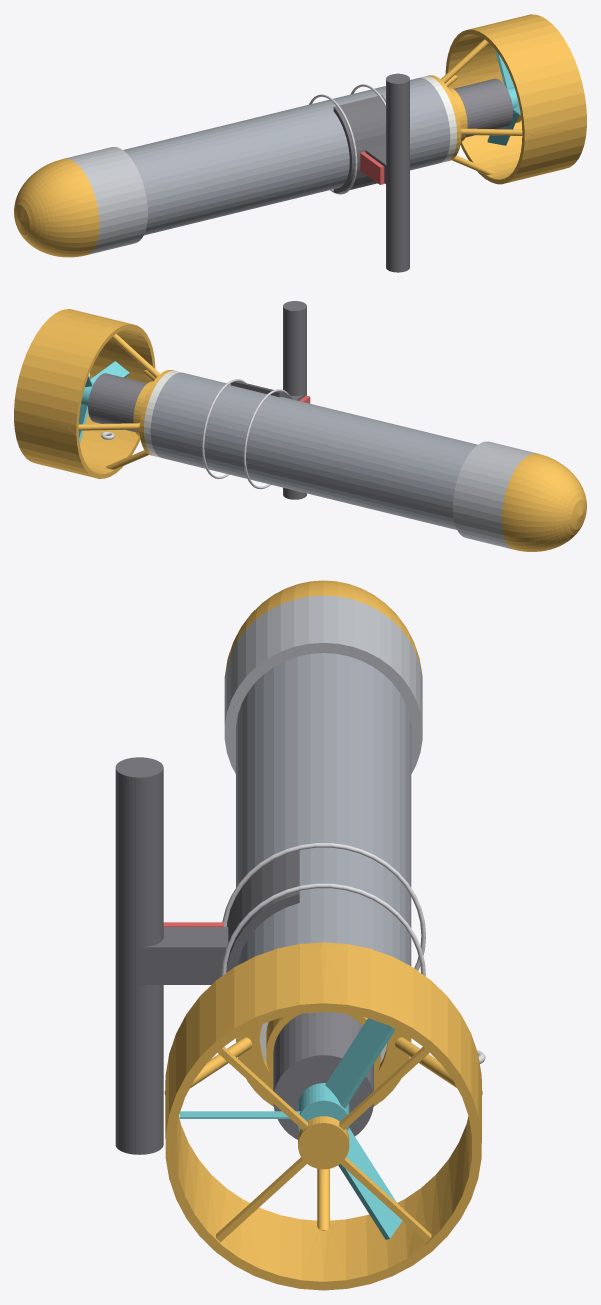
File: dpv-reva2.glb
3 renders of one model, top to bottom at view 1: azimuth 30°, elevation 25°; view 2: azimuth 150°, elevation 25°; view 3: azimuth 270°, elevation 25°, orthographic. The views are drawn at different scales.
Parts seen in each view (by area): view 1: dpv-hull-pipe, dpv-duct, dpv-handle, dpv-nose, dpv-front-cap, dpv-motor, dpv-propeller, dpv-motor-mount, dpv-rear-plug, dpv-trigger, dpv-clamp-1; view 2: dpv-hull-pipe, dpv-duct, dpv-nose, dpv-front-cap, dpv-handle, dpv-motor, dpv-motor-mount, dpv-propeller, dpv-rear-plug, dpv-clamp-1, dpv-clamp-2; view 3: dpv-duct, dpv-hull-pipe, dpv-handle, dpv-front-cap, dpv-propeller, dpv-motor, dpv-motor-mount, dpv-nose, dpv-clamp-1, dpv-clamp-2.
Part boxes in pixels (x1,y1,x2,y2): dpv-hull-pipe: [123, 78, 450, 235]; dpv-duct: [440, 14, 586, 184]; dpv-handle: [333, 73, 409, 272]; dpv-nose: [14, 158, 99, 257]; dpv-front-cap: [65, 147, 147, 254]; dpv-motor: [453, 78, 512, 137]; dpv-propeller: [487, 49, 520, 145]; dpv-motor-mount: [426, 75, 467, 161]; dpv-rear-plug: [419, 76, 456, 162]; dpv-trigger: [360, 152, 384, 184]; dpv-clamp-1: [309, 94, 357, 194]; dpv-hull-pipe: [150, 372, 477, 529]; dpv-duct: [14, 309, 159, 478]; dpv-nose: [501, 453, 586, 551]; dpv-front-cap: [453, 441, 535, 548]; dpv-handle: [230, 301, 306, 499]; dpv-motor: [88, 373, 147, 432]; dpv-motor-mount: [133, 370, 174, 455]; dpv-propeller: [78, 361, 129, 443]; dpv-rear-plug: [144, 371, 181, 457]; dpv-clamp-1: [243, 389, 289, 489]; dpv-clamp-2: [202, 379, 246, 478]; dpv-duct: [164, 942, 482, 1290]; dpv-hull-pipe: [236, 653, 411, 965]; dpv-handle: [115, 757, 299, 1154]; dpv-front-cap: [224, 595, 422, 773]; dpv-propeller: [179, 1018, 402, 1239]; dpv-motor: [273, 1012, 373, 1139]; dpv-motor-mount: [236, 1013, 411, 1106]; dpv-nose: [224, 580, 422, 677]; dpv-clamp-1: [222, 843, 425, 970]; dpv-clamp-2: [221, 883, 425, 976].
Bounding box in the file's own units: 0.762 × 0.26 × 0.231.
